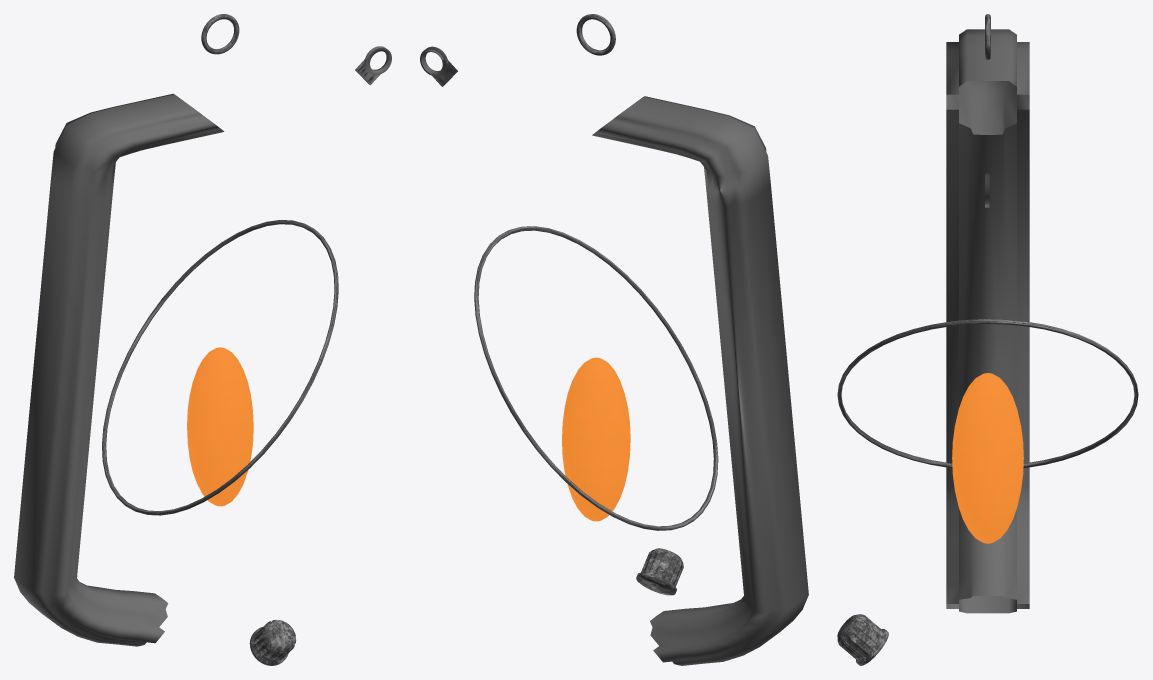
The model's file is lantern.glb.
3 views of the same model, side by side, from view 1: azimuth 30°, elevation 25°; view 2: azimuth 150°, elevation 25°; view 3: azimuth 270°, elevation 25° (orthographic). The views are drawn at different scales.
Visible parts, largest first — view 1: Plane, Sphere, Torus, Cylinder.001, Circle, Torus.001; view 2: Plane, Sphere, Torus, Cylinder.001, Circle, Torus.001; view 3: Plane, Sphere, Torus, Cylinder.001.
Part boxes in pixels (x1,y1,x2,y2): Plane: (14, 93, 224, 646); Sphere: (187, 347, 253, 506); Torus: (102, 220, 338, 515); Cylinder.001: (249, 619, 296, 665); Circle: (355, 46, 391, 85); Torus.001: (201, 14, 239, 54); Plane: (592, 96, 808, 665); Sphere: (562, 357, 630, 521); Torus: (474, 226, 718, 530); Cylinder.001: (636, 548, 683, 595); Circle: (420, 46, 457, 86); Torus.001: (576, 14, 615, 55); Plane: (946, 29, 1029, 613); Sphere: (952, 373, 1023, 543); Torus: (837, 319, 1138, 468); Cylinder.001: (837, 614, 888, 665).
Bounding box in the file's own units: 2.56 × 4.03 × 1.7.
Materials: 2 (1 with a texture image).
